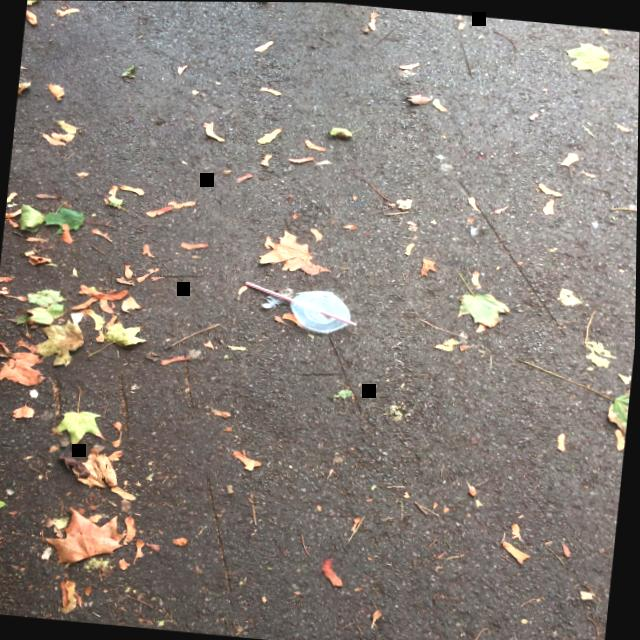Plastic lid: (291, 290, 351, 333)
Plastic straw: (245, 281, 358, 325)
